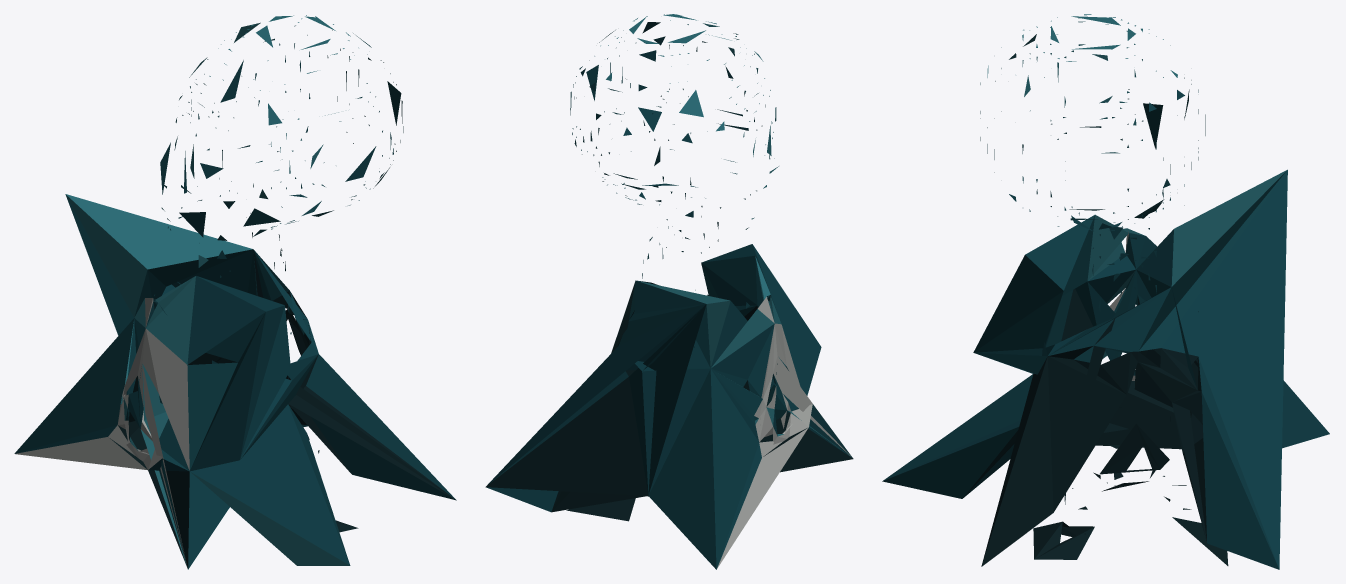
3 renders of one model, left to right at view 1: azimuth 30°, elevation 25°; view 2: azimuth 150°, elevation 25°; view 3: azimuth 270°, elevation 25°, orthographic. The views are drawn at different scales.
Visible parts, largest first — view 1: lion-1500; view 2: lion-1500; view 3: lion-1500.
Part boxes in pixels (x1,y1,x2,y2): lion-1500: (14, 15, 456, 569); lion-1500: (485, 14, 853, 569); lion-1500: (882, 14, 1329, 569).
Bounding box in the file's own units: 0.5723 × 0.9832 × 0.7693.
